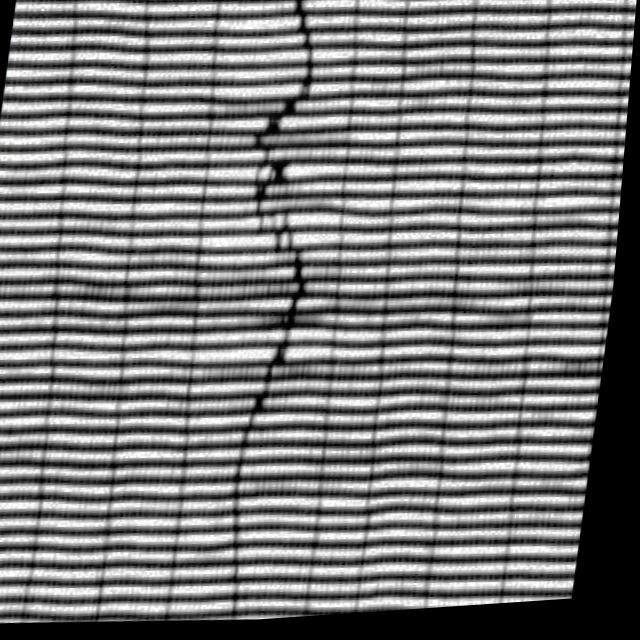Stitch: (102, 0, 435, 511), (157, 0, 404, 487)
